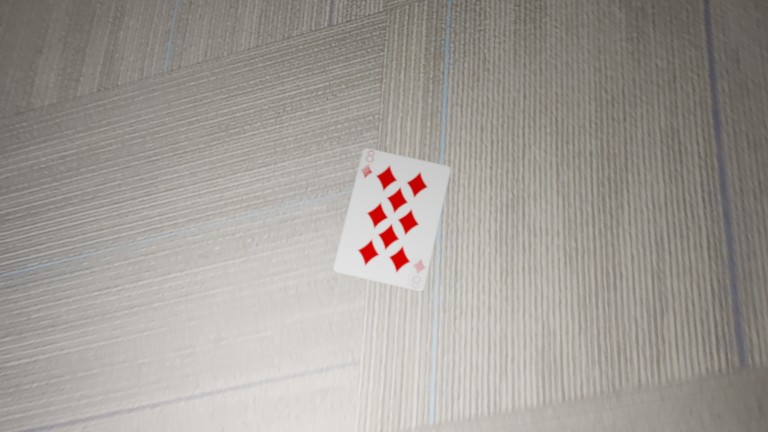8_of_diamonds: (162, 102, 172, 116), (143, 60, 152, 72)
